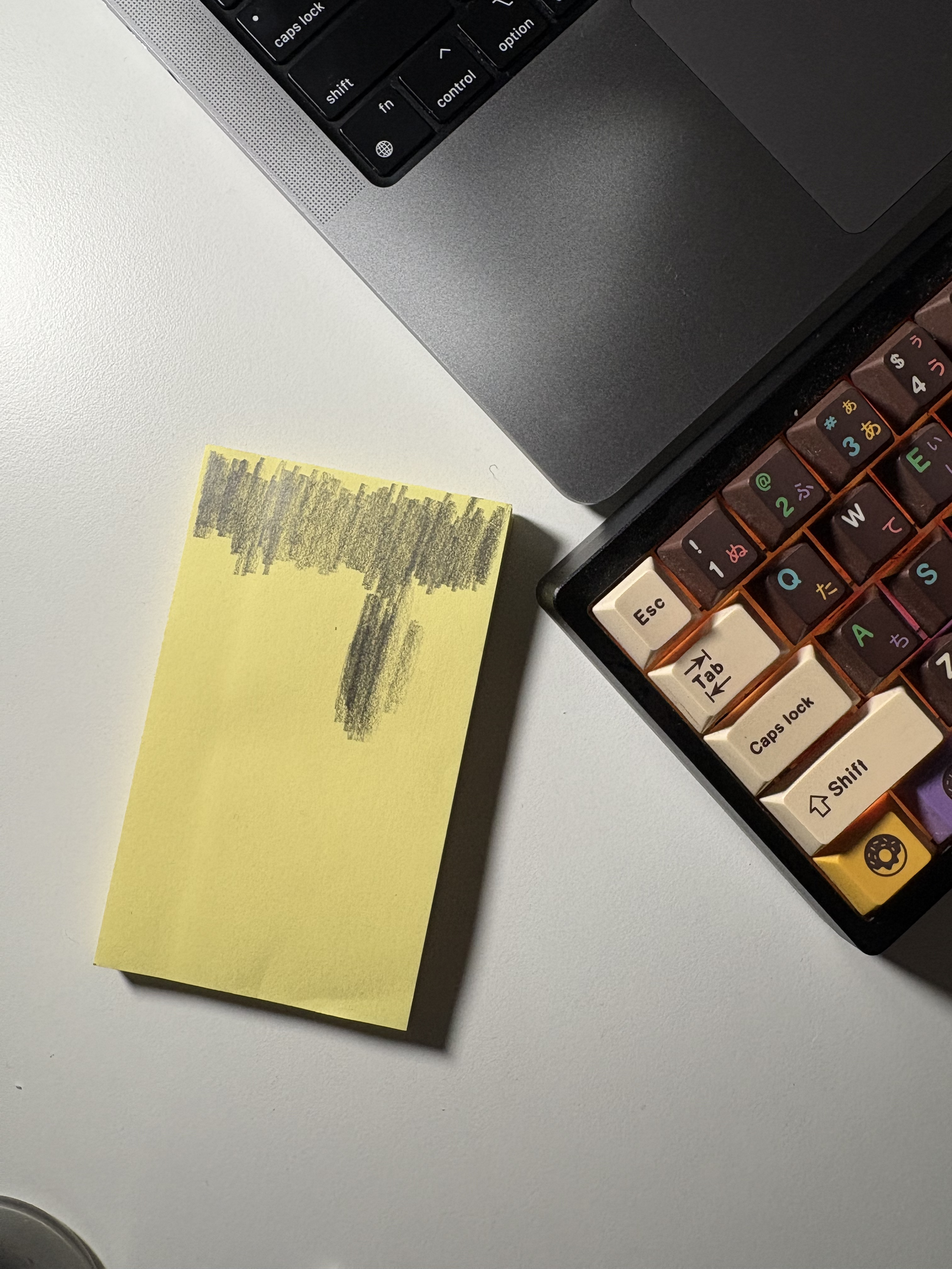paper: (94, 366, 511, 1047)
